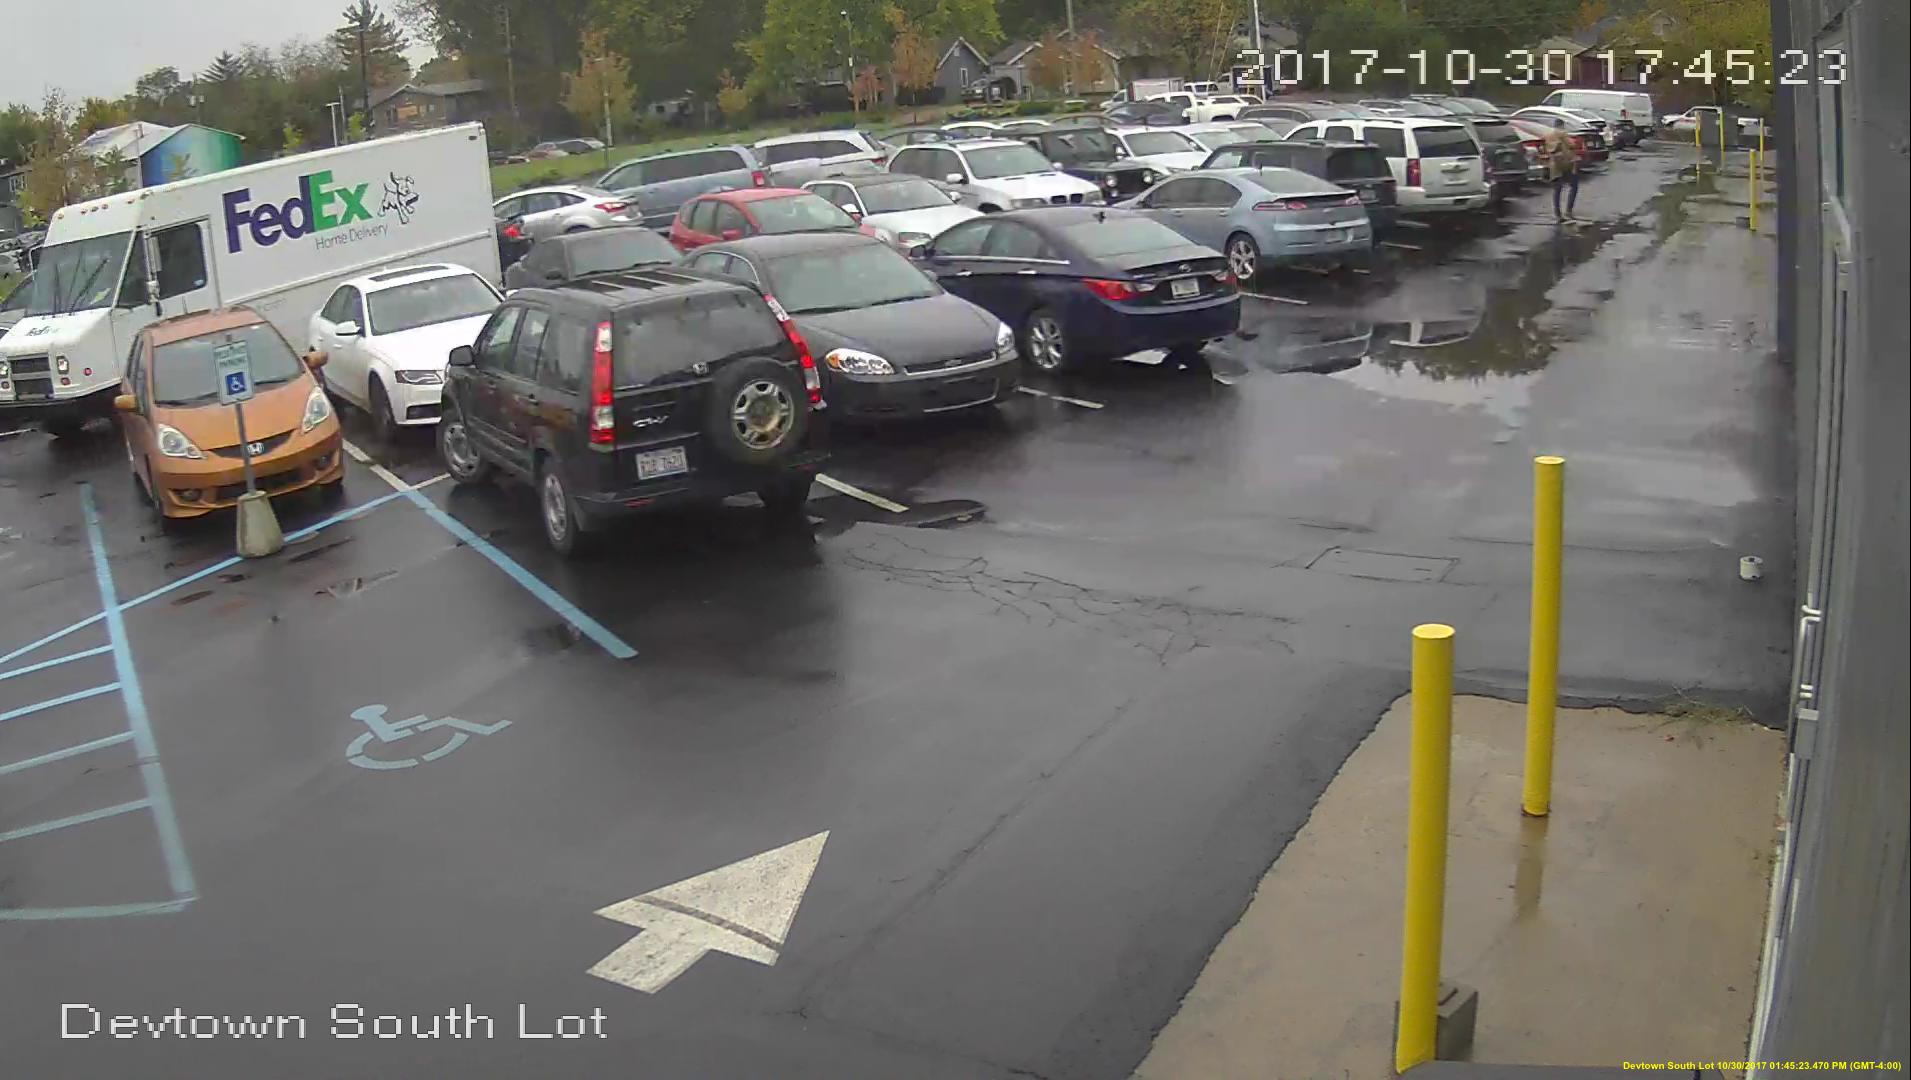fedex_truck: (17, 147, 484, 433)
